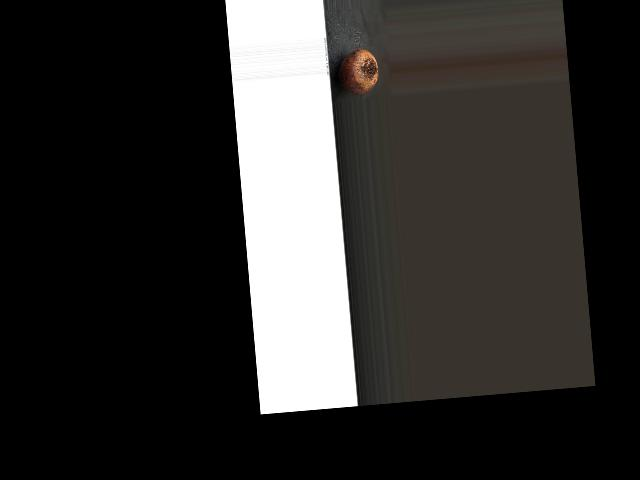beet: (337, 48, 379, 97)
